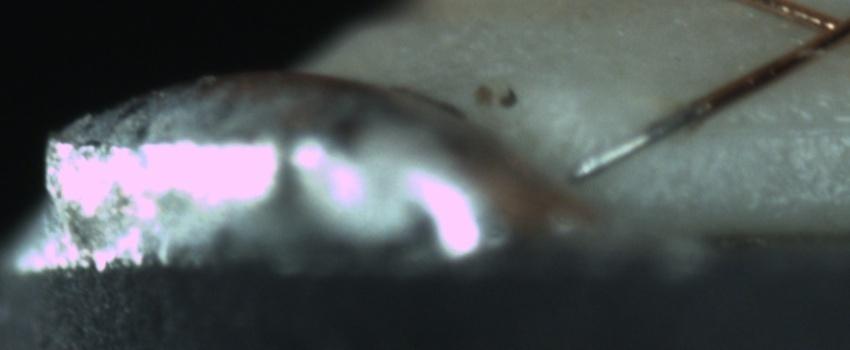CL: (783, 2, 847, 60)
DL: (687, 95, 849, 159)
TS: (570, 99, 710, 184)
